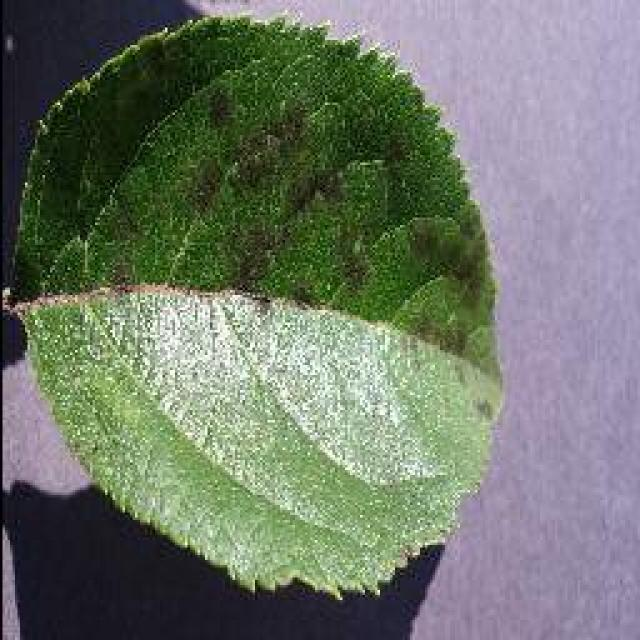apple scab disease: (5, 10, 505, 600)
